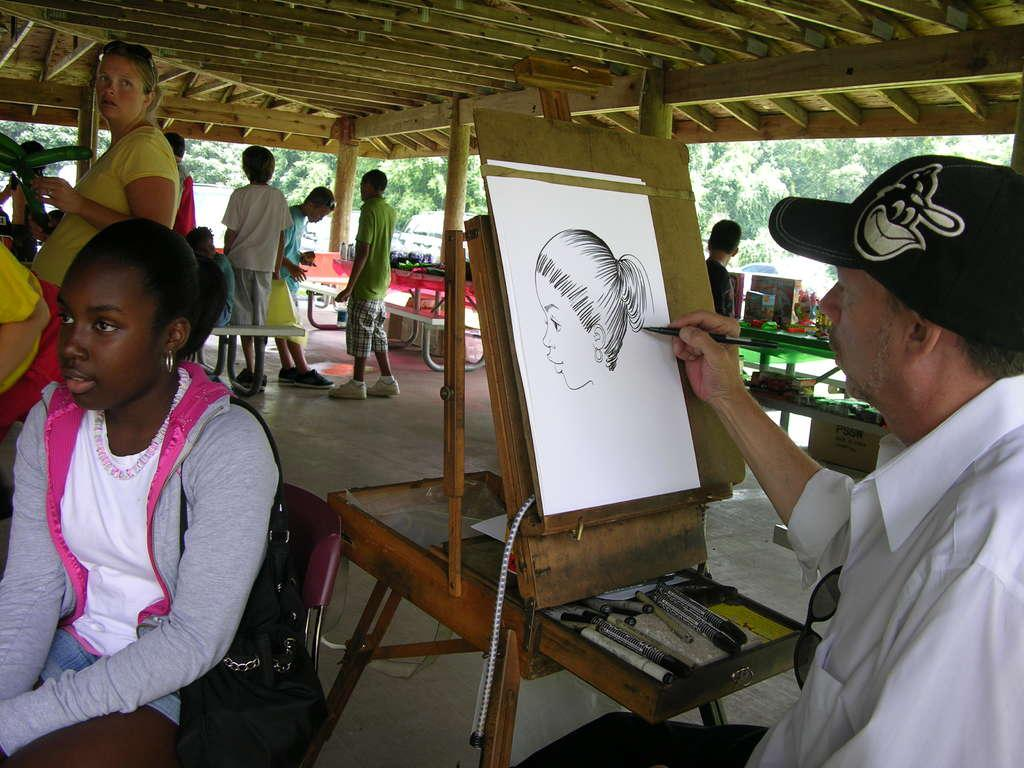Hat: (766, 152, 1022, 349)
